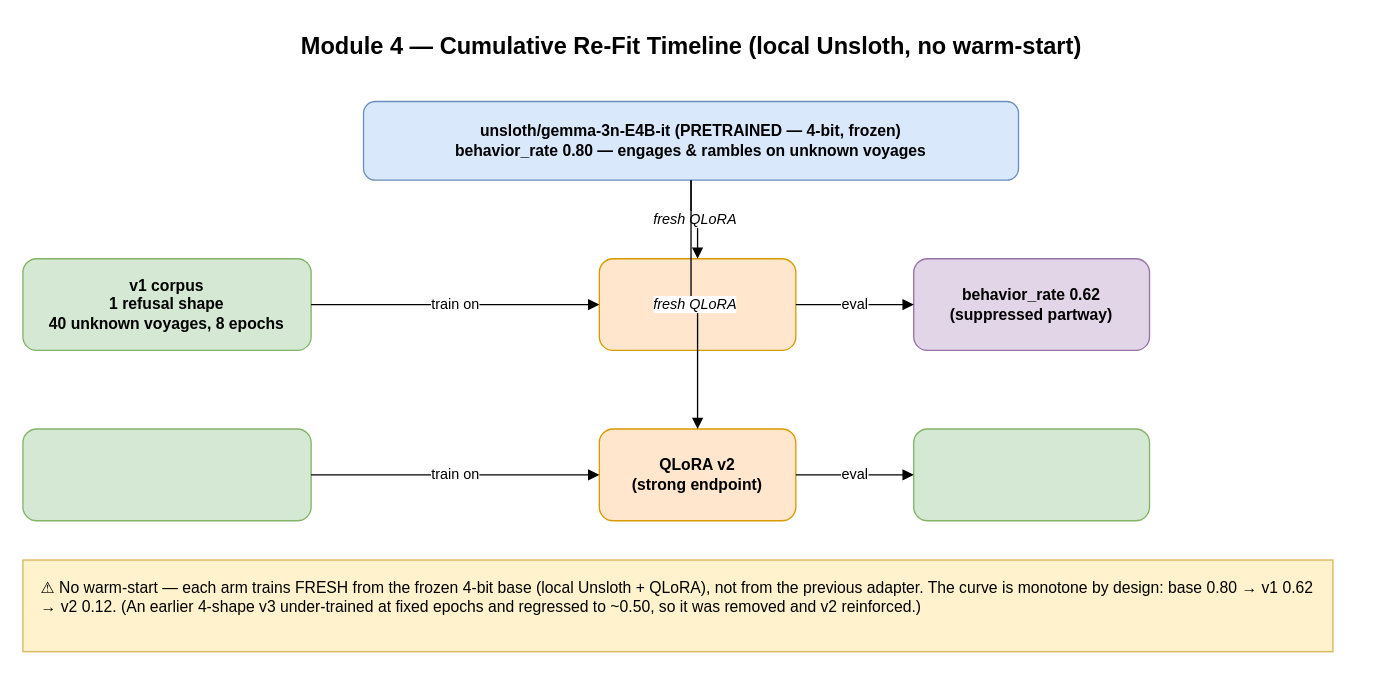
Some shapes in this 1382 by 675 pixel diagram are drawn without their labels. The centre of each missing label's shape, as x and y in pixels:
"behavior_rate 0.12 kept_capability 0.95 — gate passes" goes at pixel 1031 474.
"QLoRA v1 (weak baseline)" goes at pixel 697 303.
"v2 corpus 2 refusal shapes (reinforced) 100 unknown voyages, 12 epochs" goes at pixel 166 474.
